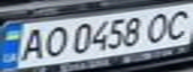0: (69, 20, 93, 55)
4: (90, 17, 112, 52)
5: (106, 16, 130, 51)
8: (121, 14, 148, 47)
A: (15, 25, 48, 62)
C: (160, 6, 193, 42)
O: (139, 9, 175, 44), (39, 24, 69, 58)
